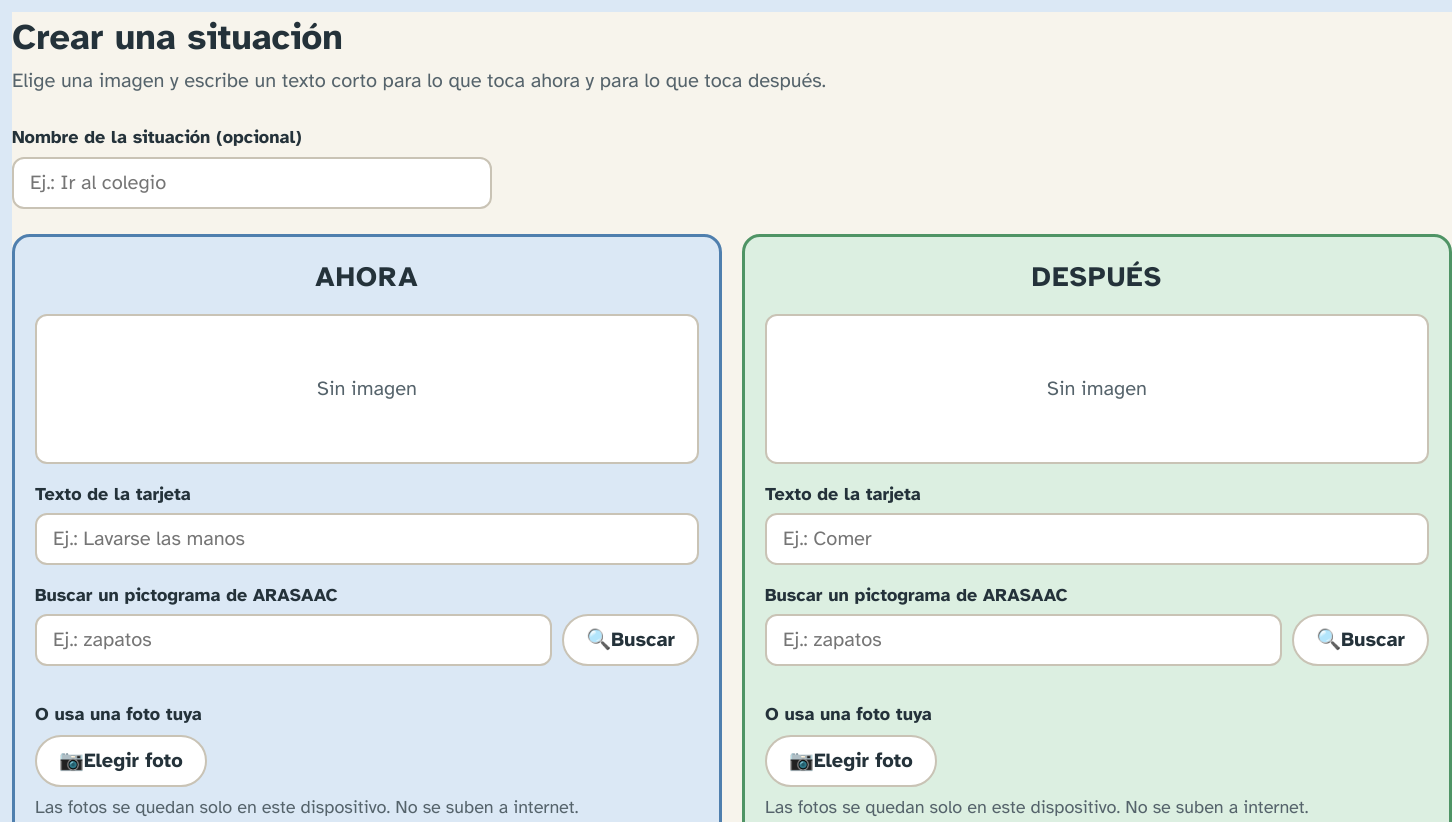
ScenarioEditorPage › explains when ARASAAC cannot be reached
This screenshot has width=1452, height=822.
In the 1st search field labelled "Buscar un pictograma de ARASAAC 🔍 Buscar": x=294, y=640 [35,614,552,666], type "zapatos"
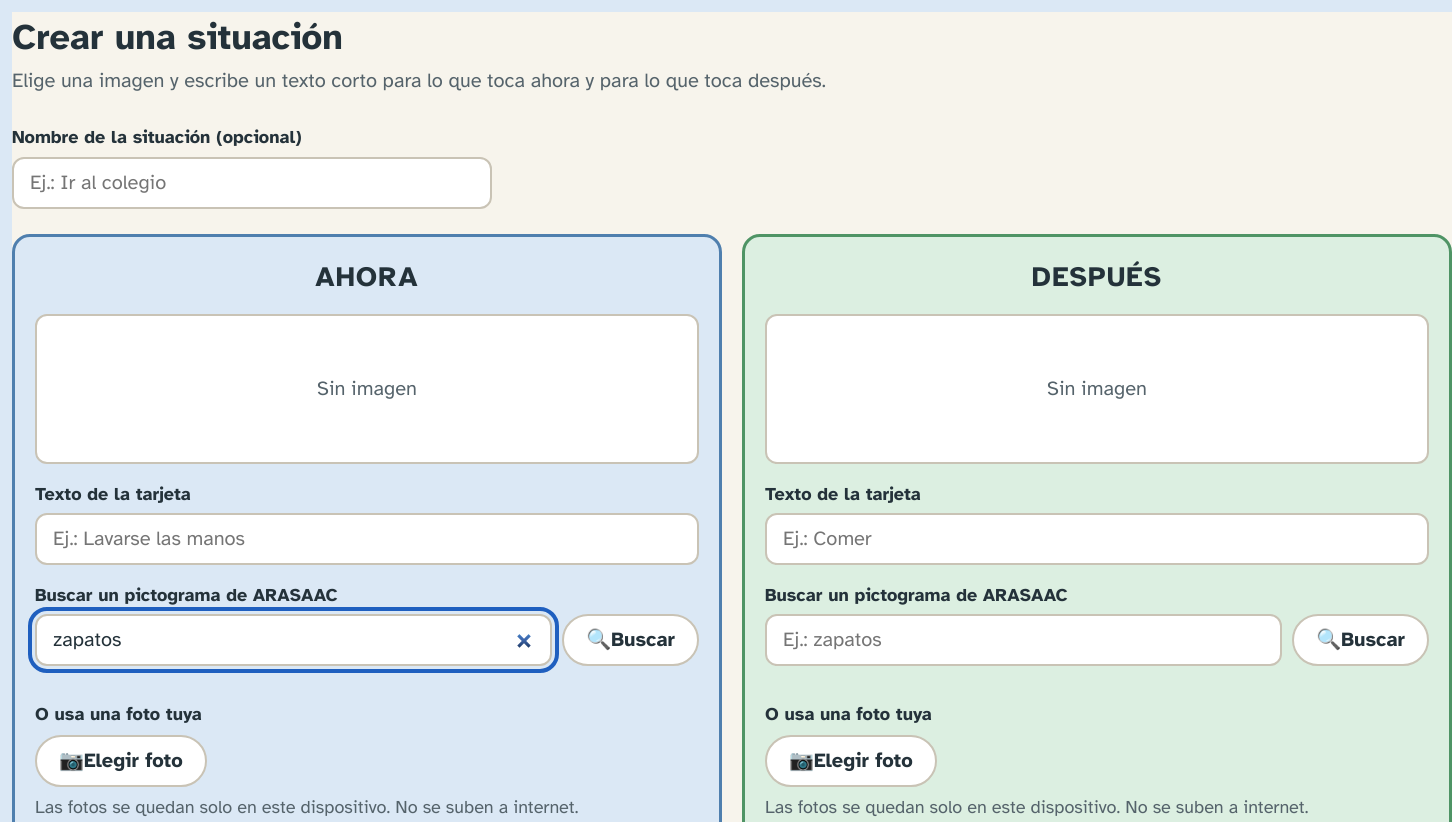
Click the 1st button "🔍 Buscar": x=631, y=640 [562,614,699,666]
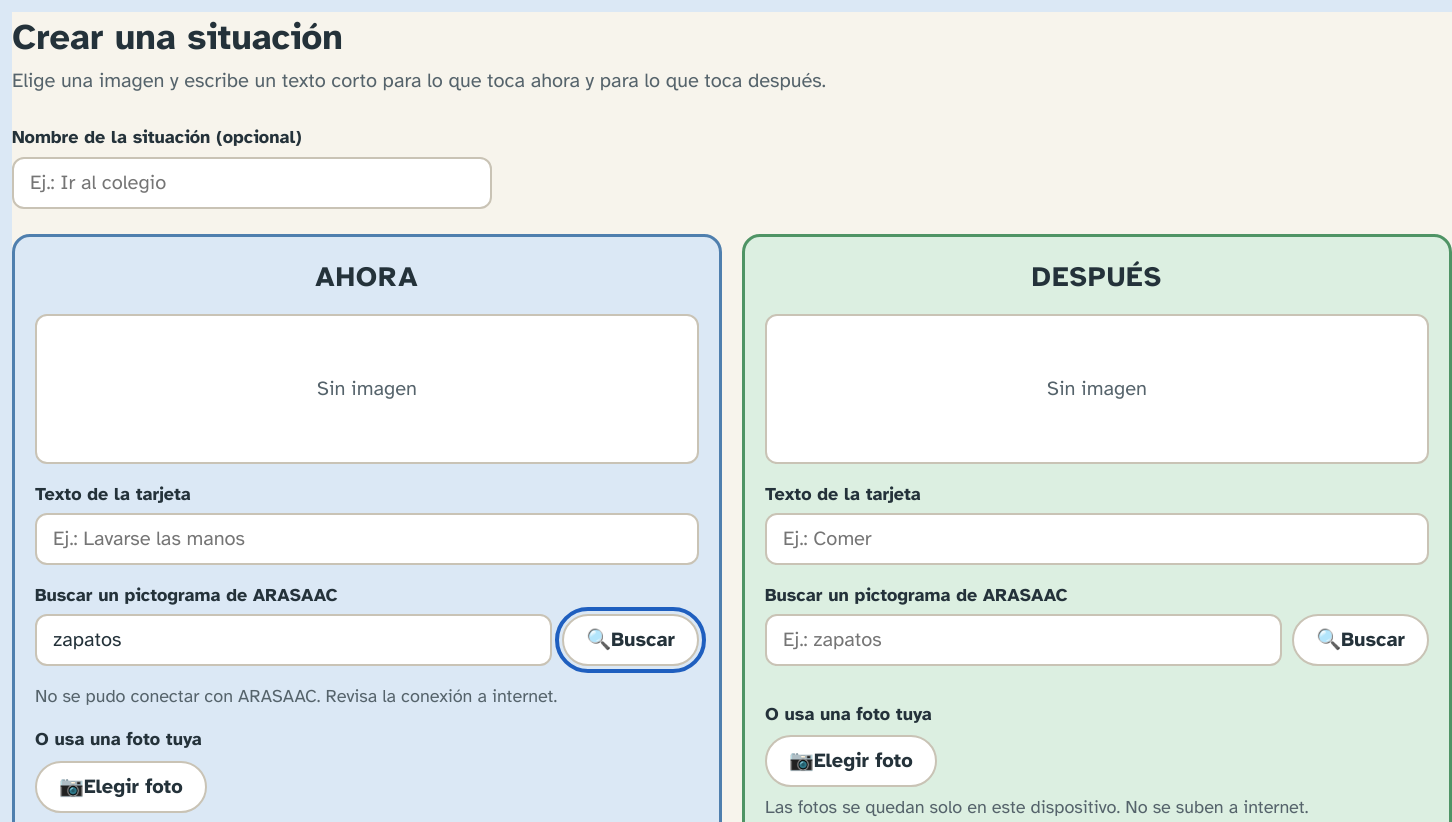
Expected: the text "No se pudo conectar con ARASAAC" is shown, [35,685,557,707]
